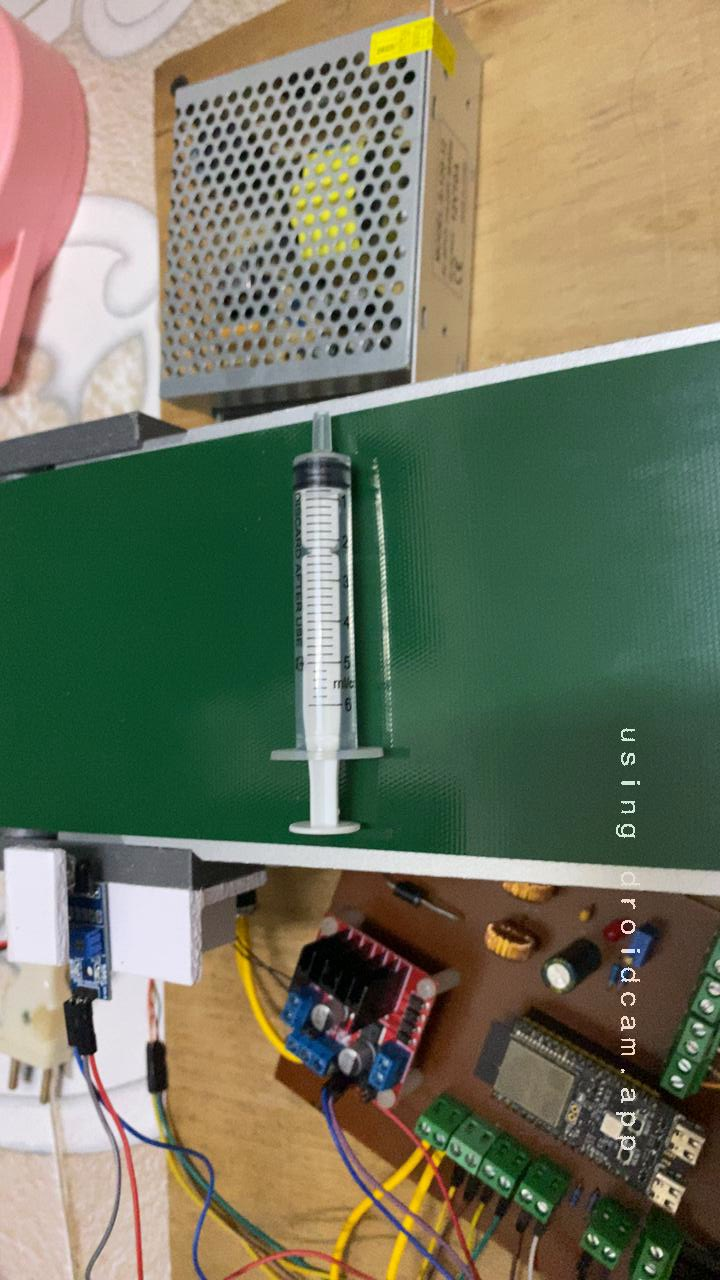syringe: (247, 455, 415, 859)
